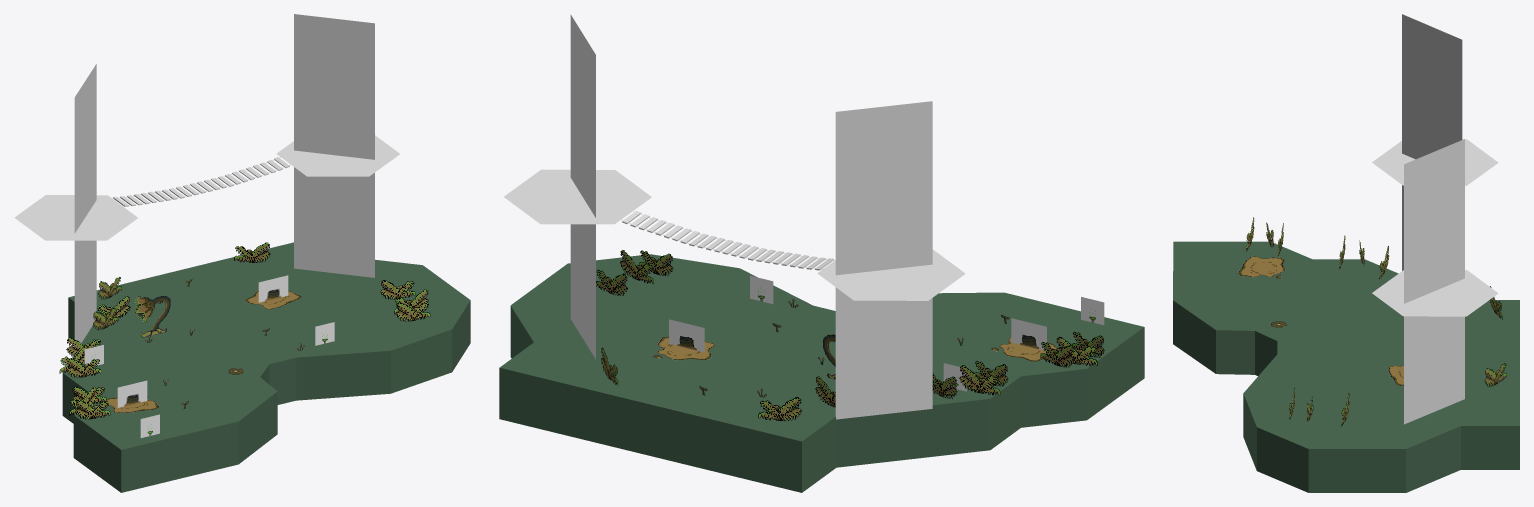
File: Nivel2.fbx
3 renders of one model, left to right at view 1: azimuth 30°, elevation 25°; view 2: azimuth 150°, elevation 25°; view 3: azimuth 270°, elevation 25°, orthographic. The views are drawn at different scales.
Visible parts, largest first — view 1: Base.001, Arbol Sequoia.006, Arbol Sequoia.001, Circle.002, Circle.001, Tablas, Planta carnivora 9.002, Barril 1.006, Barril 1.007, Helecho.032, Helecho.020, Helecho.022 (+1 smaller); view 2: Base.001, Arbol Sequoia.001, Arbol Sequoia.006, Circle.001, Circle.002, Tablas, Barril 1.007, Barril 1.006, Barro 1.007, Helecho.031, Helecho.027; view 3: Base.001, Arbol Sequoia.006, Arbol Sequoia.001, Circle.001, Circle.002, Barro 1.006.
Boxes of the visible parts, x1,y1,x2,y2 form: Base.001: (62, 242, 470, 492); Arbol Sequoia.006: (294, 14, 374, 277); Arbol Sequoia.001: (74, 64, 96, 348); Circle.002: (14, 195, 137, 240); Circle.001: (276, 135, 399, 176); Tablas: (111, 157, 291, 206); Planta carnivora 9.002: (134, 296, 170, 337); Barril 1.006: (117, 380, 147, 407); Barril 1.007: (258, 275, 288, 302); Helecho.032: (234, 242, 270, 262); Helecho.020: (380, 280, 415, 299); Helecho.022: (395, 302, 430, 321); Base.001: (499, 254, 1144, 492); Arbol Sequoia.001: (835, 101, 932, 419); Arbol Sequoia.006: (570, 14, 595, 359); Circle.001: (504, 169, 651, 224); Circle.002: (817, 249, 965, 300); Tablas: (620, 210, 835, 270); Barril 1.007: (669, 319, 704, 352); Barril 1.006: (1011, 318, 1046, 350); Barro 1.007: (653, 336, 714, 360); Helecho.031: (758, 397, 801, 421); Helecho.027: (959, 365, 1000, 395); Base.001: (1173, 241, 1519, 492); Arbol Sequoia.006: (1404, 139, 1464, 424); Arbol Sequoia.001: (1402, 14, 1462, 270); Circle.001: (1372, 270, 1498, 316); Circle.002: (1372, 139, 1498, 185); Barro 1.006: (1238, 256, 1285, 278).
Bounding box in the file's own units: 2060 × 1384 × 1431.
Materials: 31 (30 with a texture image).
